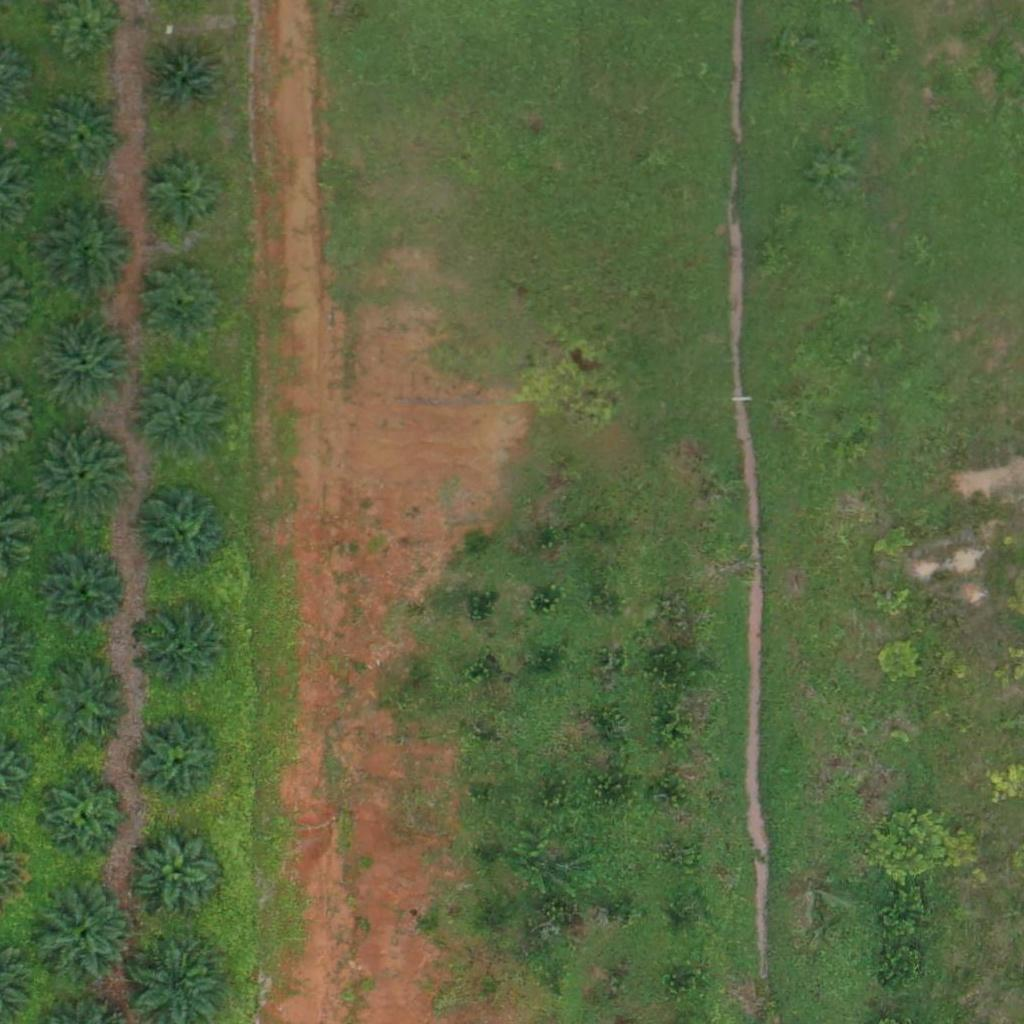Kelapa_Sawit: (40, 313, 140, 414), (33, 424, 133, 525), (132, 483, 232, 584), (36, 202, 136, 302), (32, 885, 132, 985), (138, 157, 226, 245), (41, 94, 129, 182), (38, 548, 126, 636), (140, 604, 228, 692), (136, 718, 224, 806), (137, 828, 225, 916), (142, 38, 229, 126), (42, 660, 129, 748), (138, 258, 225, 346), (138, 373, 225, 461), (39, 771, 126, 859)
